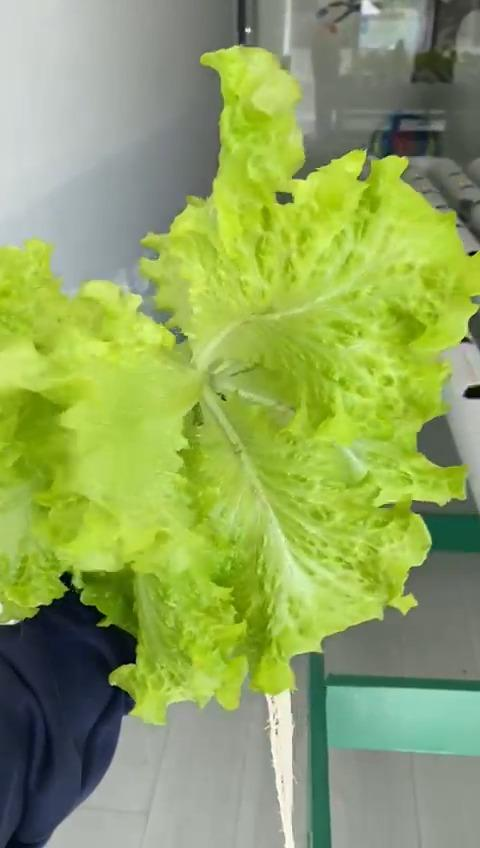Healthy: (0, 49, 480, 728)
